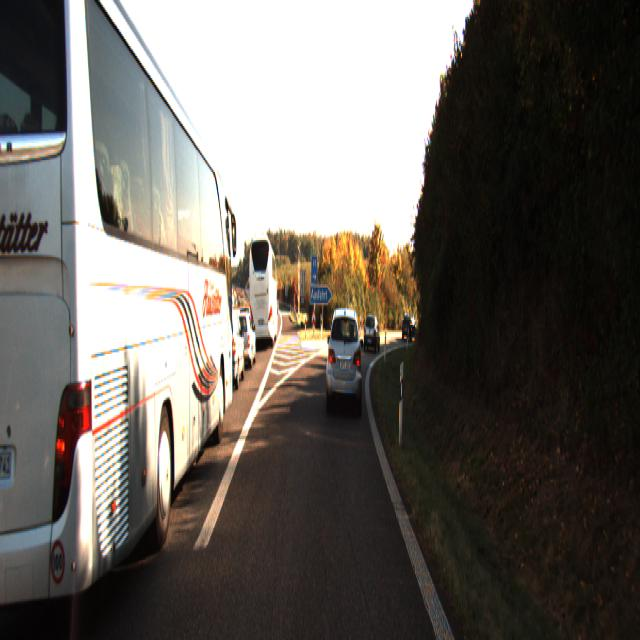Car: (0, 0, 235, 639), (0, 362, 40, 550), (326, 304, 362, 414), (248, 234, 278, 350), (210, 308, 245, 392), (230, 313, 256, 371), (364, 315, 380, 354), (402, 315, 418, 342)
